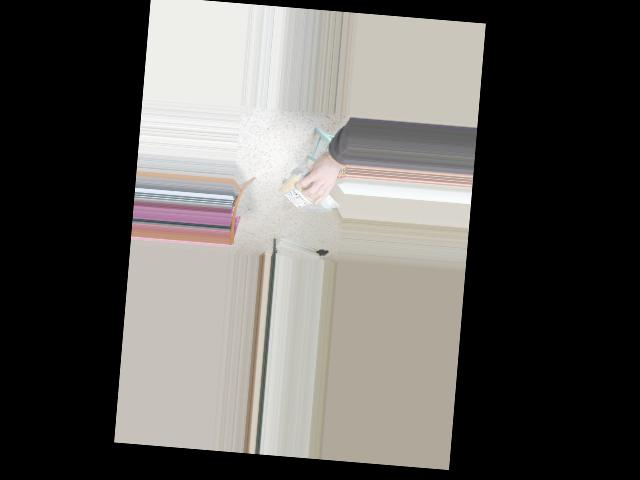cheese: (270, 177, 341, 212)
